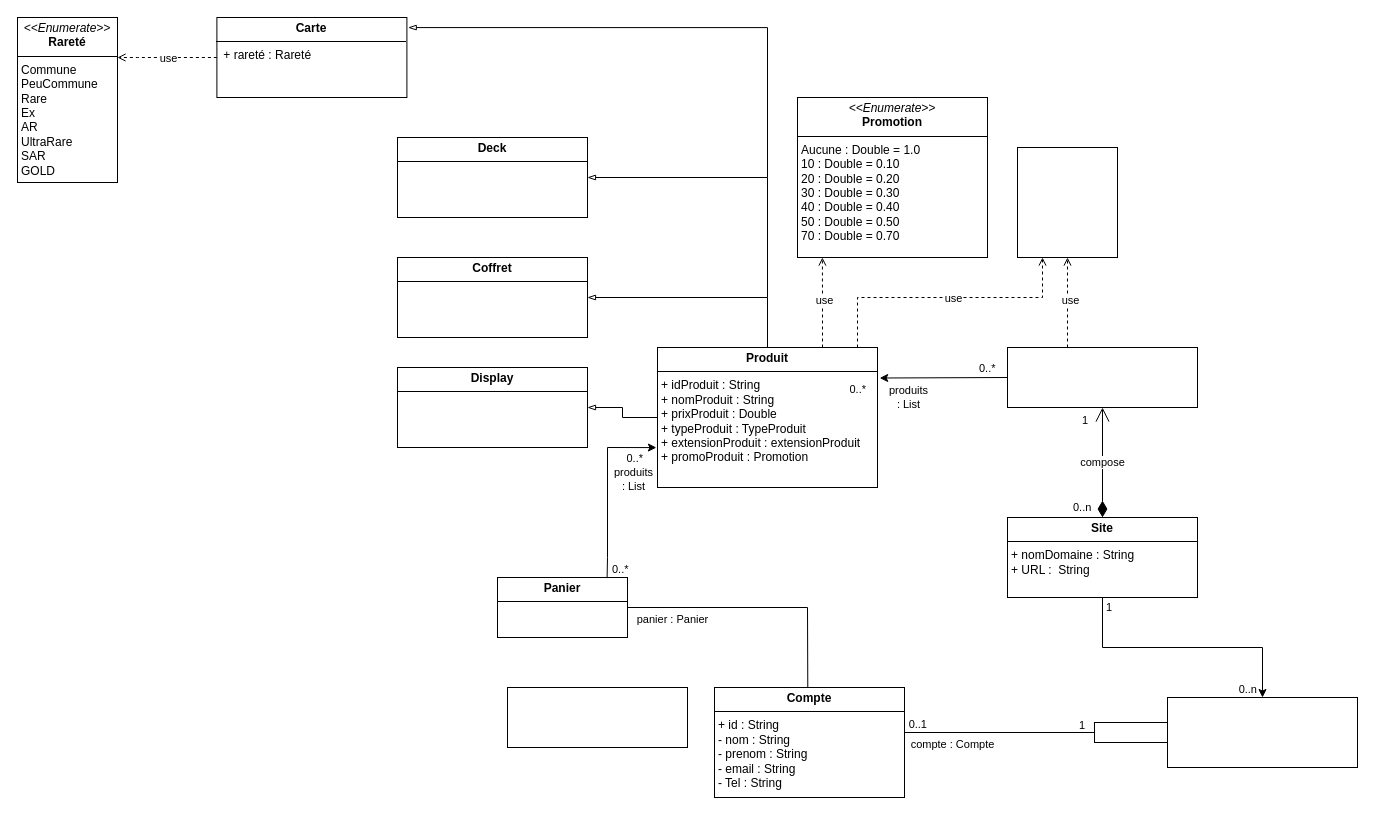
The diagram is 1375 pixels wide and 815 high, and some of its shapes have lost their labels. The box of each missing label's shape, as (x1, y1, x2, y2) in pixels:
<<Enumerate>> TypeProduit Carte Deck Coffret Display: (1016, 146, 1118, 258)
Categorie + nomCat : String: (1006, 346, 1198, 408)
id : String: (1094, 722, 1168, 742)
PaiementSystem + typePaiement : PaiementType: (506, 686, 688, 748)
Visiteur + dateDConnexion : Date: (1166, 696, 1358, 768)
